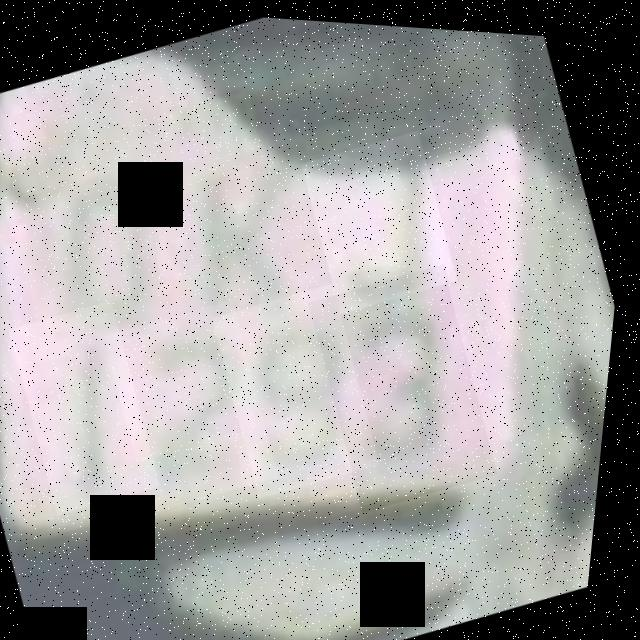1: (2, 293, 183, 519)
2: (98, 290, 301, 517)
3: (298, 250, 524, 515)
9: (205, 272, 402, 501)
D: (293, 119, 473, 315)
O: (17, 136, 212, 351)
